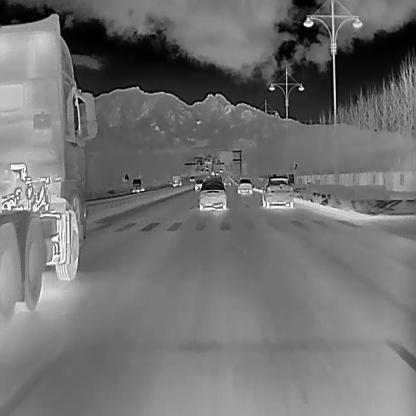car: (0, 11, 93, 318), (261, 176, 294, 208), (198, 179, 226, 209), (236, 177, 252, 193), (131, 177, 143, 192), (172, 175, 182, 187), (193, 178, 203, 189), (189, 175, 194, 182), (200, 167, 205, 173), (219, 167, 223, 173), (215, 171, 219, 176)
